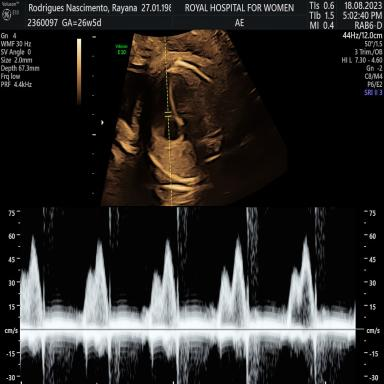Ultrasound-Waves: (25, 206, 356, 384)
